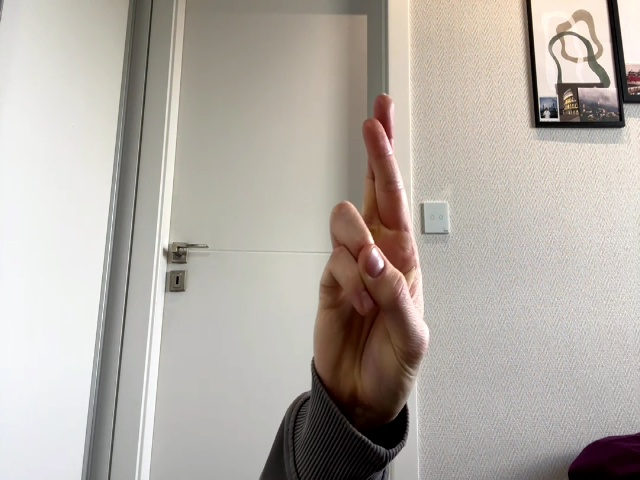R: (313, 92, 429, 392)
